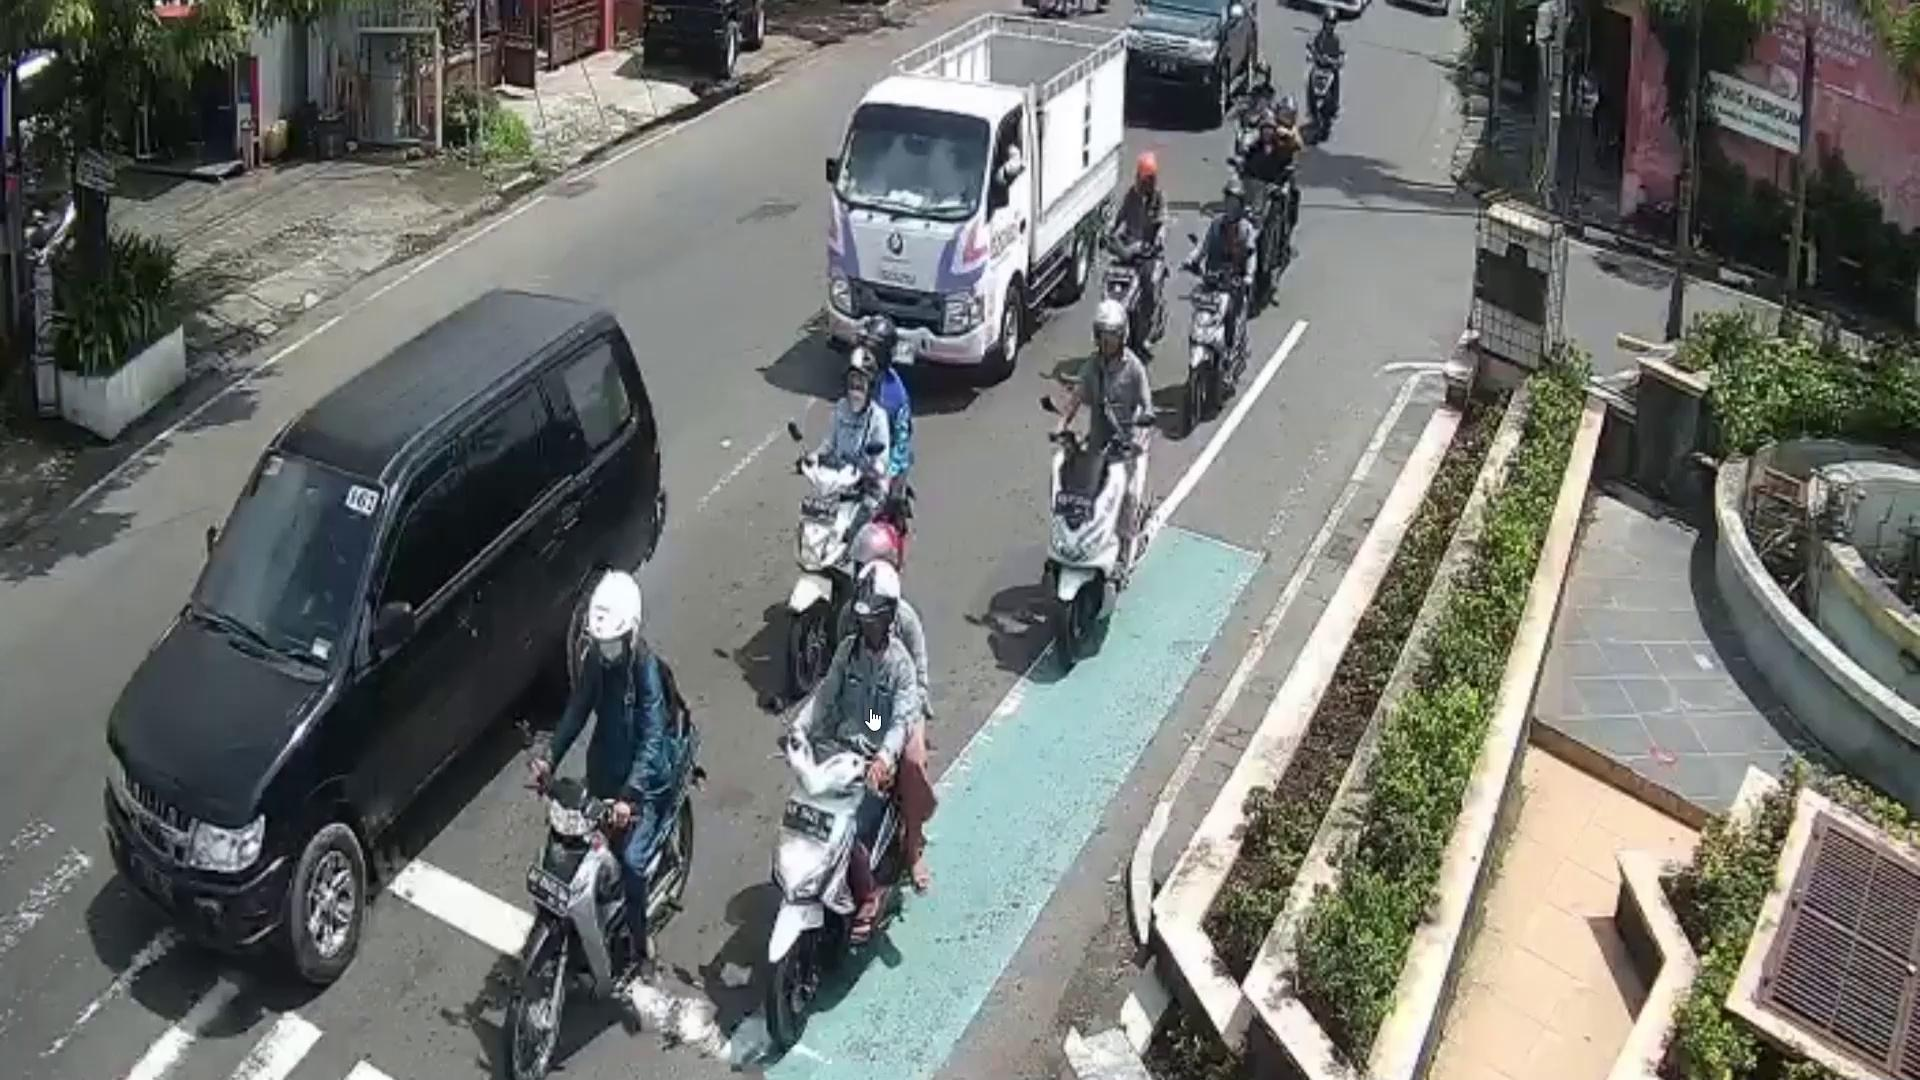car: (104, 282, 666, 990), (1116, 0, 1262, 127)
motorbike: (497, 778, 695, 1080), (770, 731, 902, 1050), (783, 454, 864, 688), (1055, 434, 1112, 671), (1185, 261, 1232, 434)
truck: (829, 8, 1125, 375)
